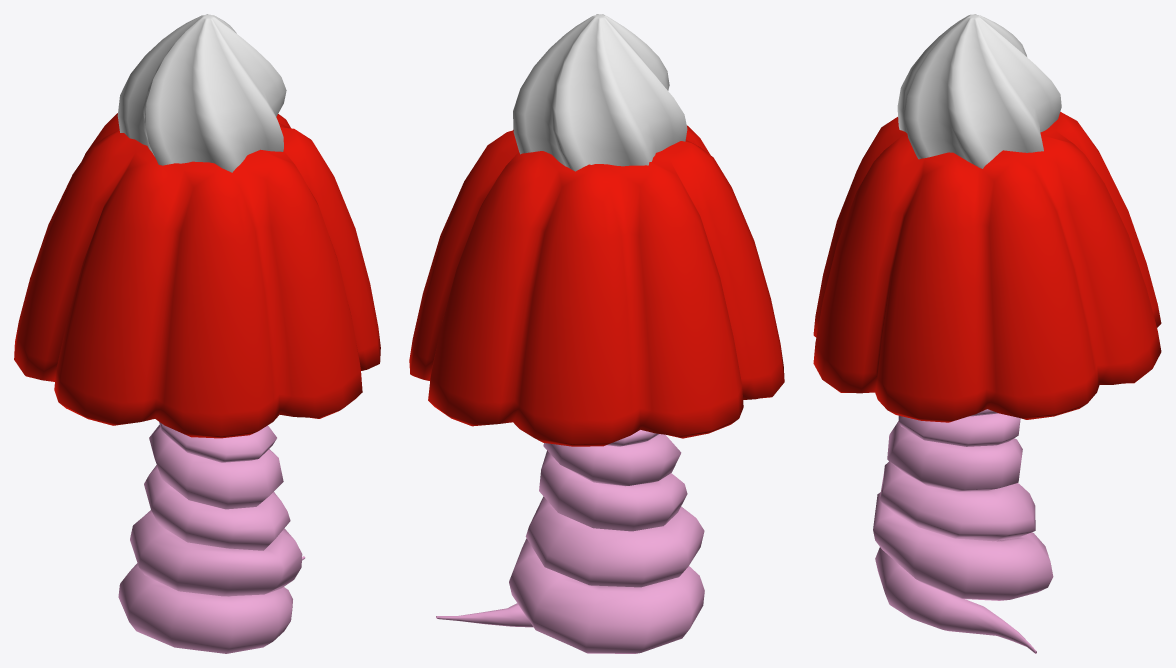
File: arbol_gelatina1.fbx
3 renders of one model, left to right at view 1: azimuth 30°, elevation 25°; view 2: azimuth 150°, elevation 25°; view 3: azimuth 270°, elevation 25°, orthographic. The views are drawn at different scales.
Parts seen in each view (by area): view 1: gelatina, Tronco, Nata; view 2: gelatina, Tronco, Nata; view 3: gelatina, Tronco, Nata.
Boxes of the visible parts, <box> form: gelatina: <box>14,113,380,438</box>; Tronco: <box>118,422,305,653</box>; Nata: <box>117,14,286,172</box>; gelatina: <box>409,125,784,446</box>; Tronco: <box>436,430,704,653</box>; Nata: <box>513,14,687,171</box>; gelatina: <box>813,112,1161,422</box>; Tronco: <box>873,409,1053,653</box>; Nata: <box>897,14,1061,168</box>.
Bounding box in the file's own units: 304 × 568 × 304.
